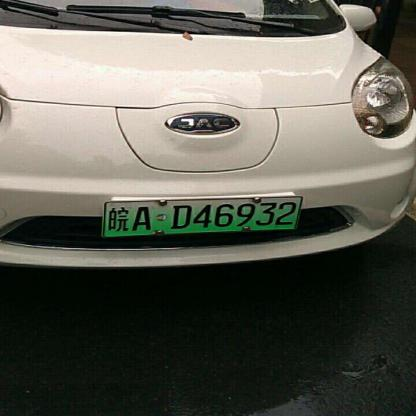lp: (105, 196, 301, 235)
